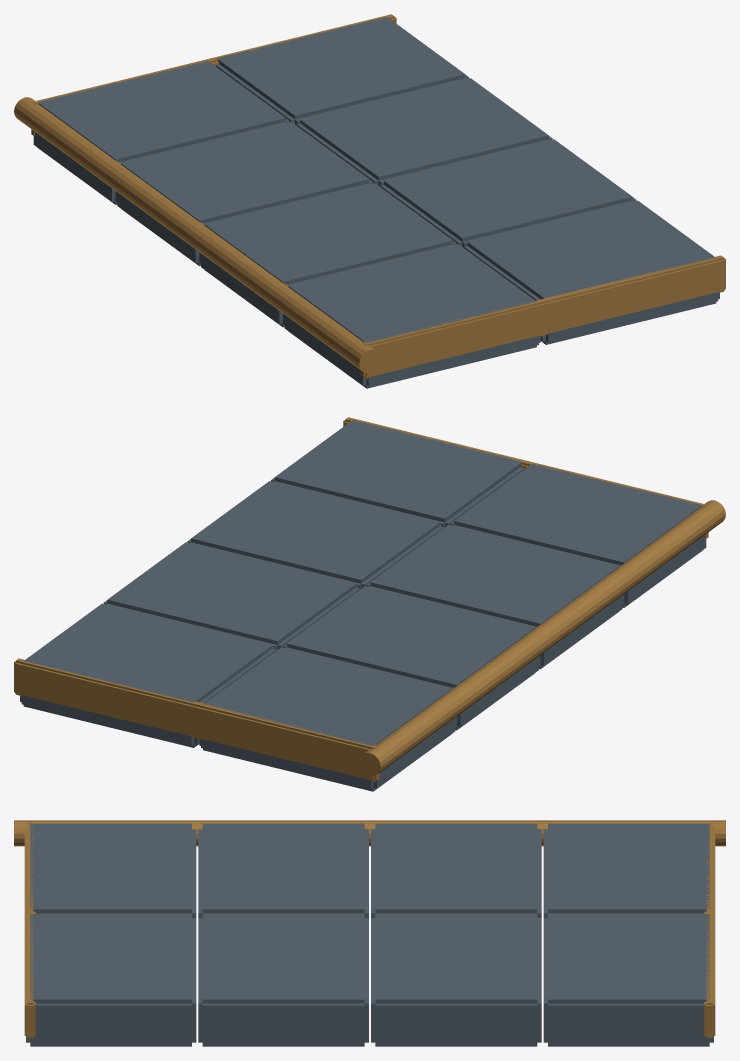
File: steam-bridge-v01.glb
3 renders of one model, top to bottom at view 1: azimuth 30°, elevation 25°; view 2: azimuth 150°, elevation 25°; view 3: azimuth 270°, elevation 25°, orthographic. The views are drawn at different scales.
Parts seen in each view (by area): view 1: Steam Basalt • blue grey bevels, Steam Bronze • forged warm; view 2: Steam Basalt • blue grey bevels, Steam Bronze • forged warm; view 3: Steam Basalt • blue grey bevels, Steam Bronze • forged warm.
Boxes of the visible parts, left/top/right/bottom form: Steam Basalt • blue grey bevels: left=33, top=17, right=719, bottom=388; Steam Bronze • forged warm: left=14, top=14, right=725, bottom=378; Steam Basalt • blue grey bevels: left=20, top=420, right=706, bottom=791; Steam Bronze • forged warm: left=14, top=417, right=725, bottom=781; Steam Basalt • blue grey bevels: left=26, top=823, right=713, bottom=1046; Steam Bronze • forged warm: left=14, top=820, right=725, bottom=1037.
Size of the model in its own units: 4.12 by 0.48 by 6.6.
